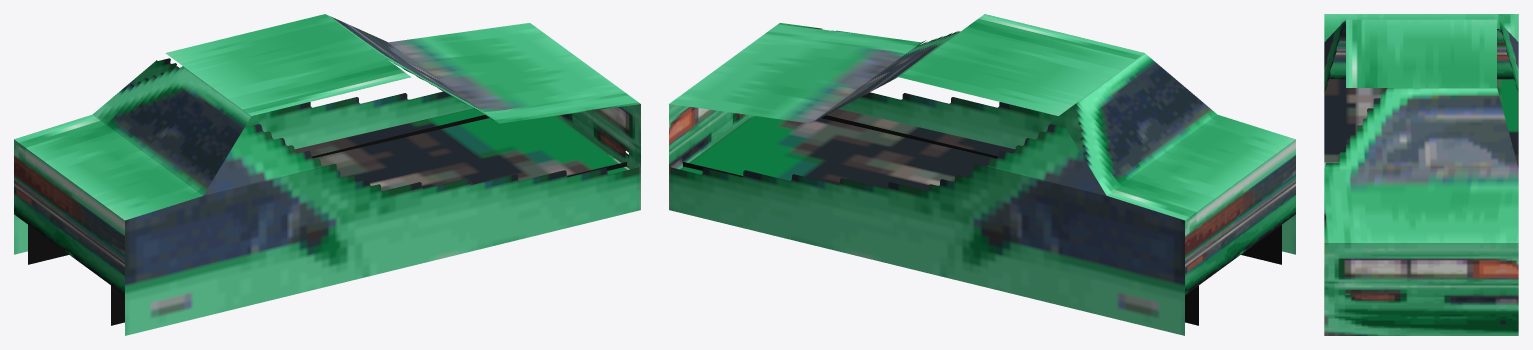
File: _sunbird.obj
3 renders of one model, left to right at view 1: azimuth 30°, elevation 25°; view 2: azimuth 150°, elevation 25°; view 3: azimuth 270°, elevation 25°, orthographic. The views are drawn at different scales.
Bounding box in the file's own units: 580 × 190 × 216.
Materials: 1 (1 with a texture image).
